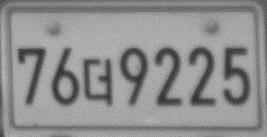2: (154, 45, 184, 108), (187, 47, 217, 107)
5: (221, 46, 251, 106)
6: (50, 46, 80, 106)
7: (16, 47, 47, 106)
9: (118, 46, 148, 106)
더: (82, 57, 115, 107)
